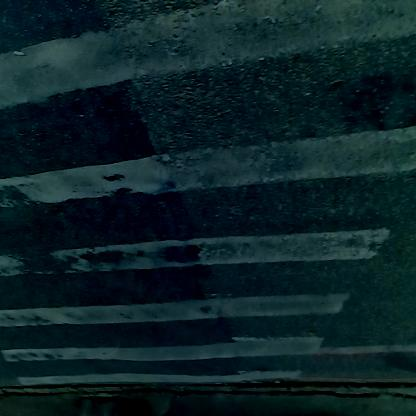crosswalk: (2, 4, 390, 379)
sidewalk: (2, 371, 415, 416)
